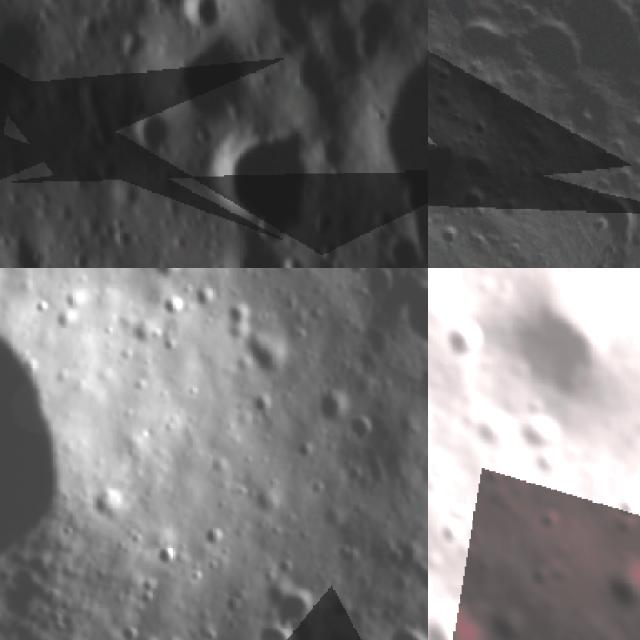crater: (200, 114, 345, 250), (499, 286, 626, 418), (154, 23, 279, 138), (527, 0, 640, 114), (503, 5, 599, 104), (0, 5, 61, 125), (445, 2, 523, 80), (334, 0, 416, 73), (210, 219, 321, 268), (428, 111, 478, 205), (240, 316, 293, 390), (428, 592, 508, 640), (436, 310, 492, 372), (594, 546, 640, 619), (126, 108, 181, 168), (364, 217, 426, 268), (165, 0, 233, 39), (524, 435, 570, 483), (458, 144, 504, 190), (404, 271, 428, 354), (319, 392, 351, 437), (432, 510, 474, 544), (613, 103, 640, 154), (240, 621, 311, 640), (473, 457, 506, 488), (384, 621, 428, 640), (428, 52, 444, 103), (615, 490, 640, 522), (538, 503, 562, 532), (428, 469, 448, 496)
